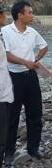boots: (27, 149, 42, 160), (4, 154, 15, 167)
